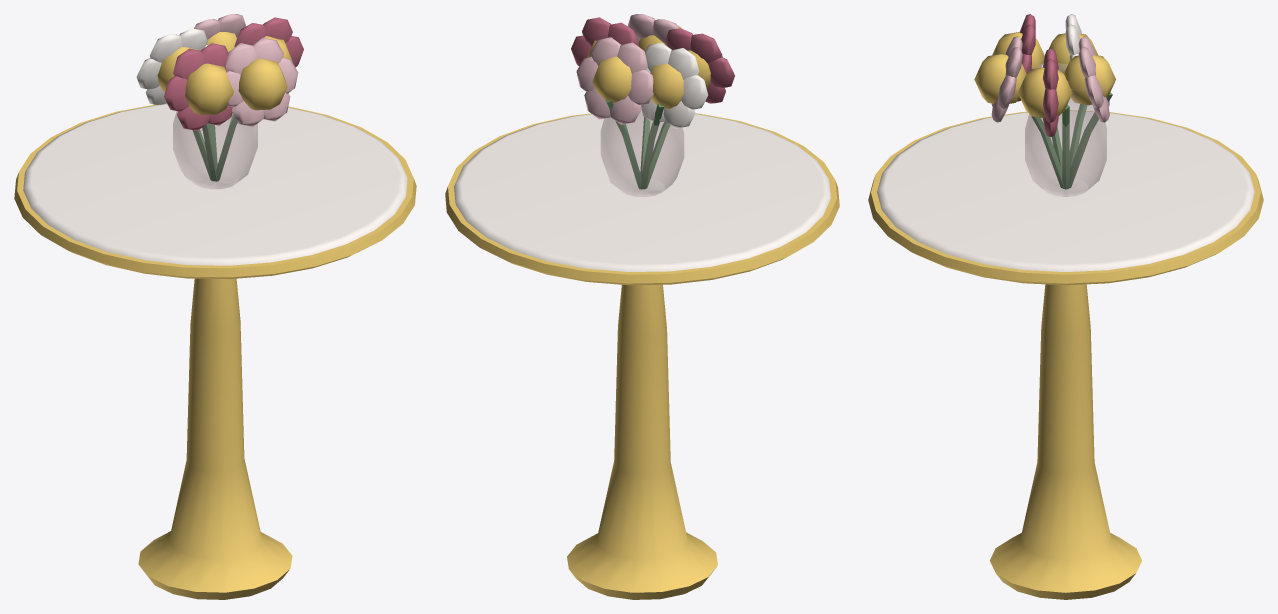
File: table_side_round.glb
3 renders of one model, left to right at view 1: azimuth 30°, elevation 25°; view 2: azimuth 150°, elevation 25°; view 3: azimuth 270°, elevation 25°, orthographic.
Parts seen in each view (by area): view 1: table_side_round; view 2: table_side_round; view 3: table_side_round.
Part boxes in pixels (left/top/right/bottom): table_side_round: left=14, top=14, right=416, bottom=599; table_side_round: left=445, top=14, right=839, bottom=599; table_side_round: left=868, top=14, right=1263, bottom=599.
Bounding box in the file's own units: 0.519 × 0.7756 × 0.519.
